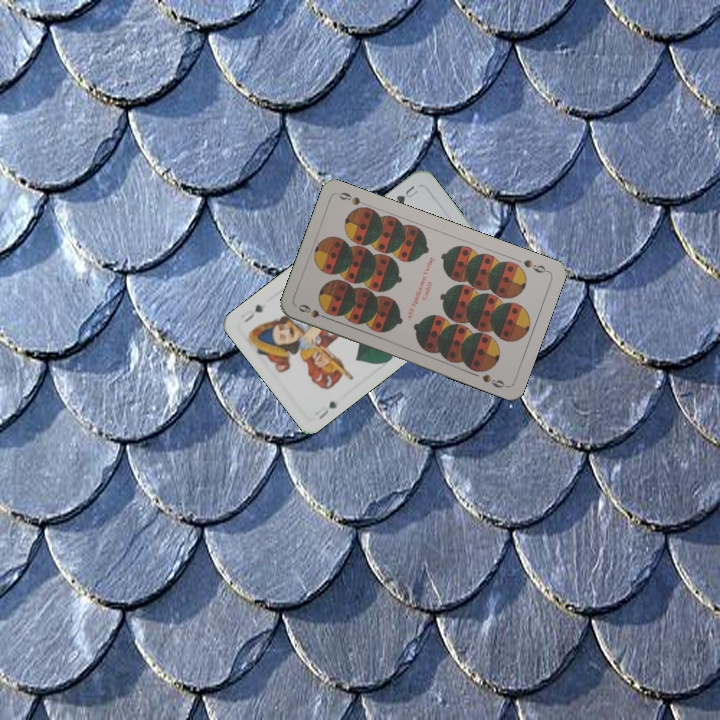GU: (391, 181, 421, 207), (311, 397, 339, 422)
S9: (294, 300, 333, 322), (519, 256, 551, 276)
